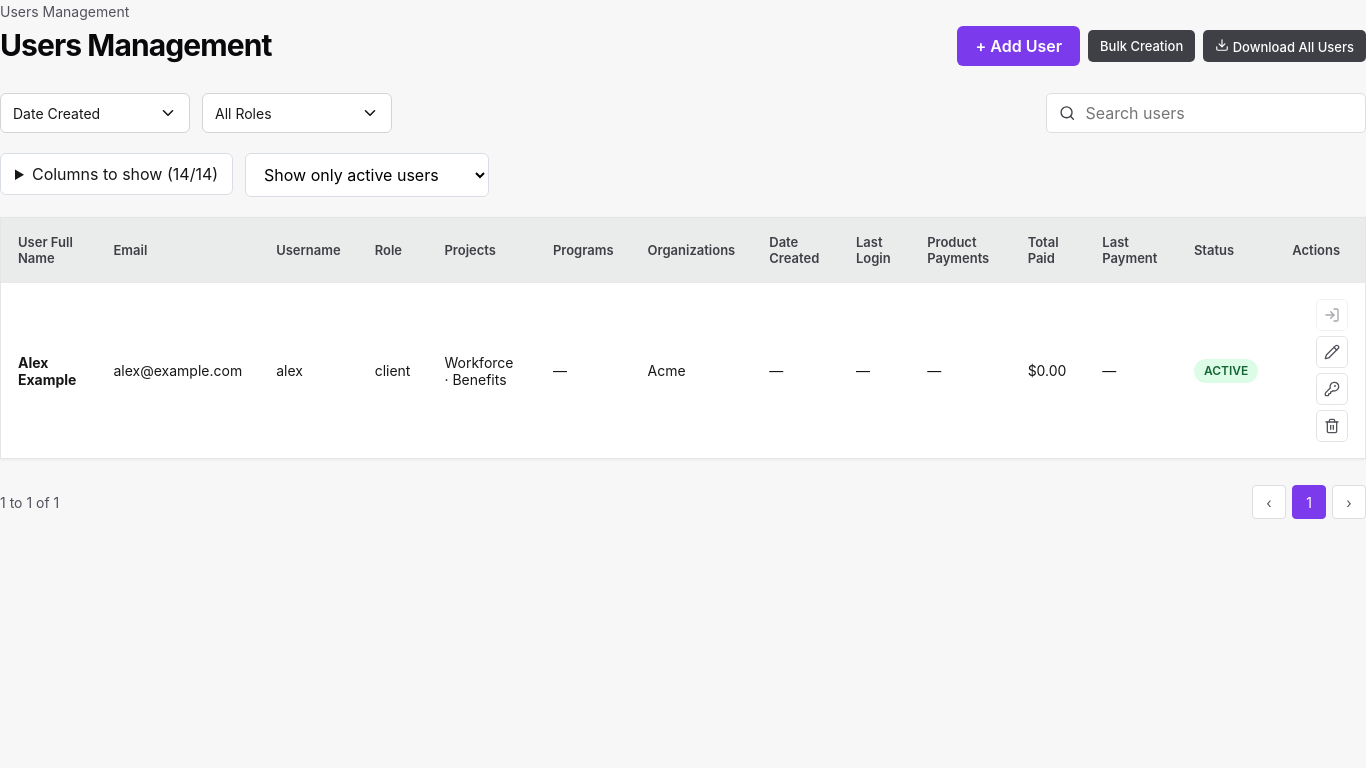
Test case: keeps a failed organization reassignment open and preserves the user's selections
Click the button named "Edit Alex Example". click: click(1332, 352)
box: [1316, 336, 1348, 368]
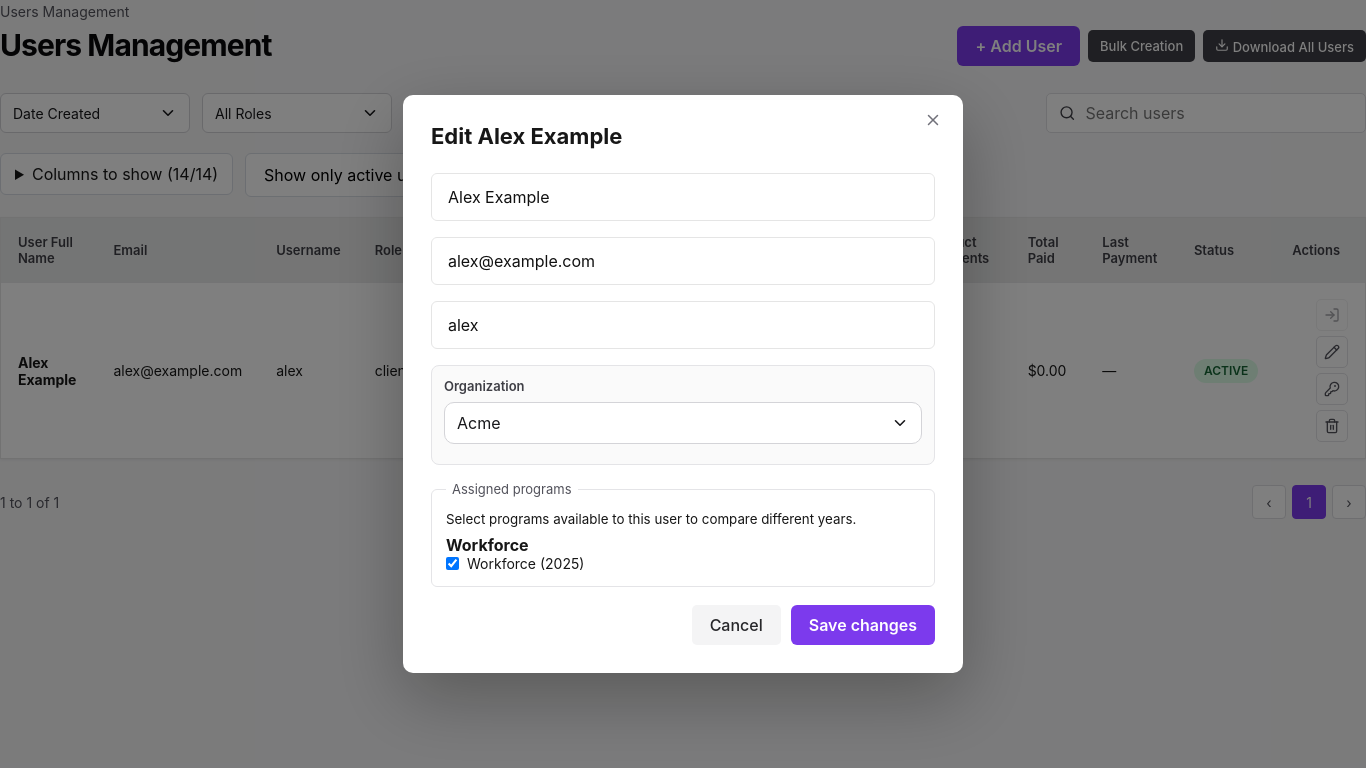
Expected: the checkbox labelled "Workforce (2025)" is checked, [446, 557, 459, 570]
Expected: the button "Save changes" is enabled
Click the button "Save changes". click: click(863, 625)
box: [791, 605, 935, 645]
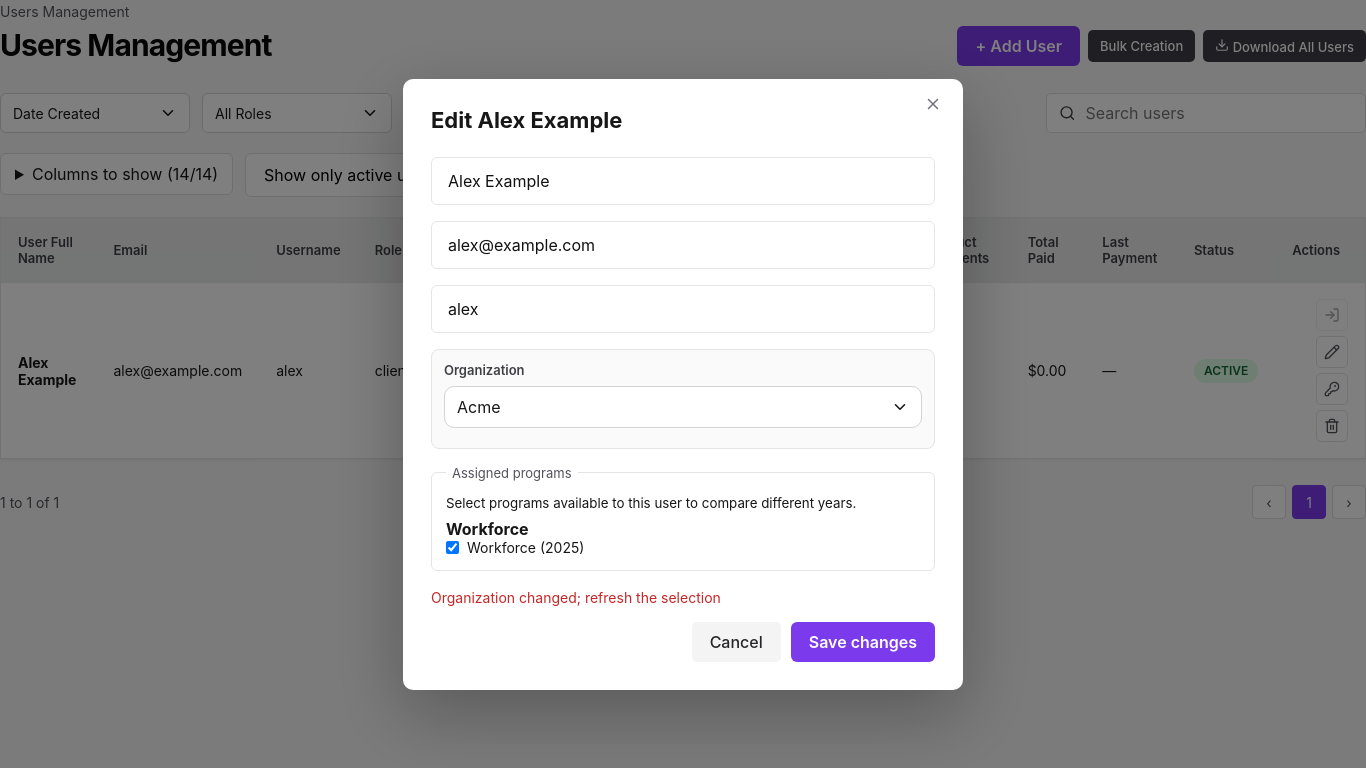
Expected: the checkbox labelled "Workforce (2025)" is checked, [446, 540, 459, 554]
Expected: the dialog is shown, [403, 78, 963, 690]
Expected: the text "Organization changed; refresh the selection" is shown, [431, 588, 721, 606]
